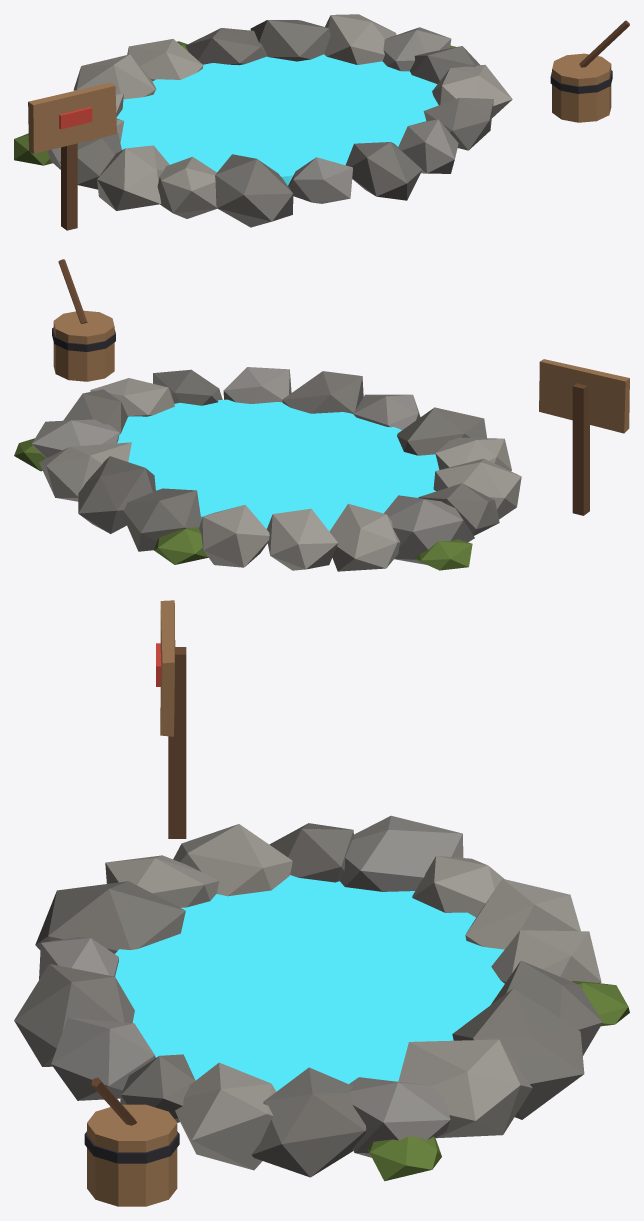
File: theme_spring.glb
3 views of the same model, one above another, from view 1: azimuth 30°, elevation 25°; view 2: azimuth 150°, elevation 25°; view 3: azimuth 270°, elevation 25° (orthographic). The views are drawn at different scales.
Parts seen in each view (by area): view 1: theme_spring; view 2: theme_spring; view 3: theme_spring.
Part boxes in pixels (left/top/right/bottom): theme_spring: left=14, top=14, right=629, bottom=230; theme_spring: left=14, top=259, right=629, bottom=571; theme_spring: left=14, top=600, right=629, bottom=1206.
Bounding box in the file's own units: 2.2 × 0.5705 × 1.36.
